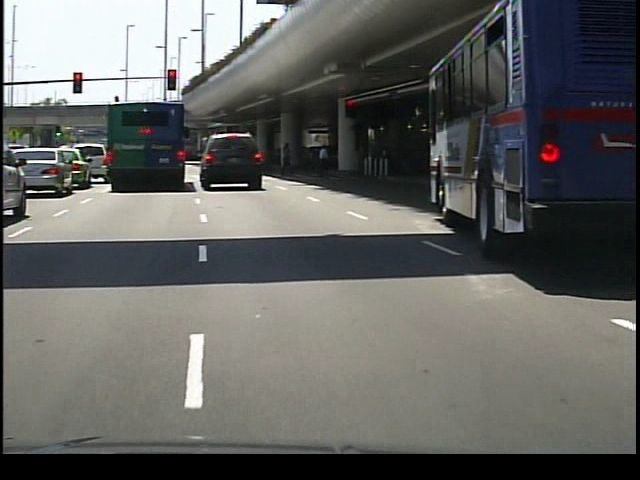person: (277, 138, 299, 180), (313, 142, 333, 179)
